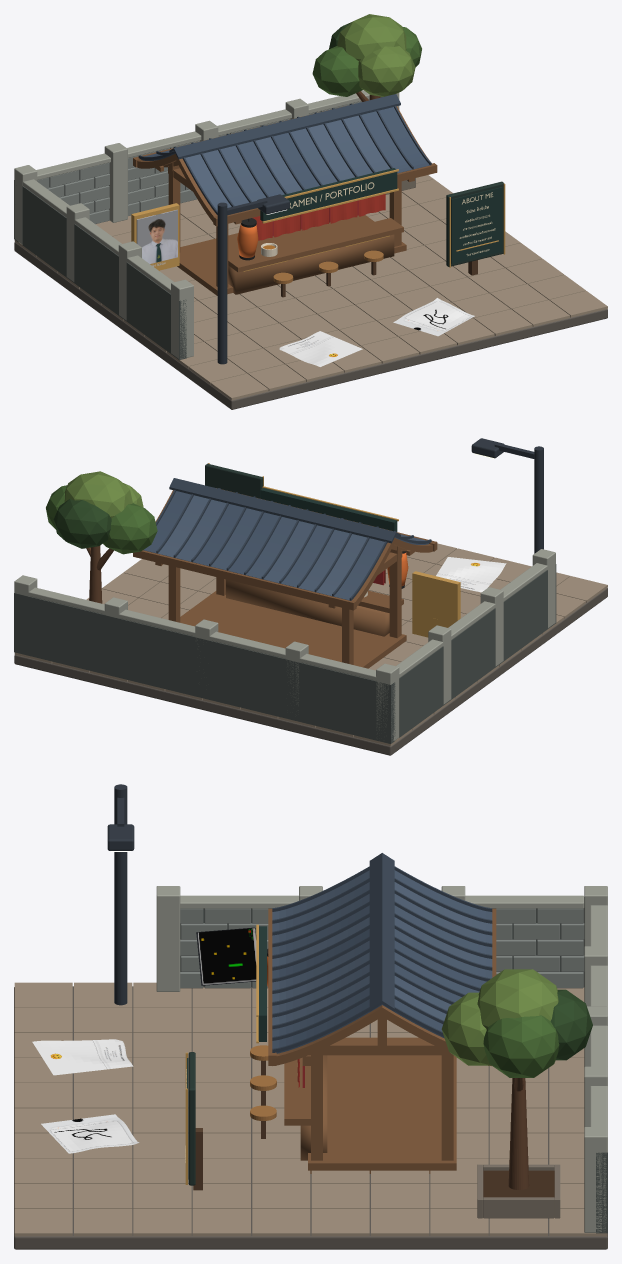
The model's file is rAMEs.glb.
The picture shows the model from 3 angles, top to bottom: view 1: azimuth 30°, elevation 25°; view 2: azimuth 150°, elevation 25°; view 3: azimuth 270°, elevation 25°; orthographic projection. The views are drawn at different scales.
Parts seen in each view (by area): view 1: Tile, Wall_left, Plane, PF_Profile_Inset, Wall_Left_Post, Cube.008, Wall_Post, Wall_Brick, Wall_cap, Cube, Roof_Ridge_Cap, Cube.007 (+28 smaller); view 2: Wall_Back, Tile, Wall_left, Cube, Plane, Wall_cap, Cube.008, Roof_Ridge_Cap, Wall_Post, PF_Portrait_Frame, Wall_Left_Post, Leaves_Back (+28 smaller); view 3: Tile, Cube, Plane, Wall_Brick_Left, Wall_Post, Roof_Ridge_Cap, Wall_Brick_Left_Offset, Leaves_Right, Leaves_Top, posterwall, Wall_Left_Post, Wall_left_Cap (+41 smaller).
Part boxes in pixels (left/top/right/bottom): Tile: left=14, top=175, right=607, bottom=400; Wall_left: left=22, top=186, right=186, bottom=359; Plane: left=14, top=242, right=607, bottom=409; PF_Profile_Inset: left=451, top=187, right=502, bottom=263; Wall_Left_Post: left=66, top=203, right=193, bottom=358; Cube.008: left=228, top=234, right=394, bottom=294; Wall_Post: left=14, top=93, right=399, bottom=244; Wall_Brick: left=37, top=99, right=369, bottom=223; Wall_cap: left=36, top=90, right=369, bottom=180; Cube: left=177, top=215, right=406, bottom=295; Roof_Ridge_Cap: left=169, top=94, right=400, bottom=159; Cube.007: left=228, top=218, right=403, bottom=272; Wall_Back: left=14, top=593, right=395, bottom=743; Tile: left=14, top=543, right=607, bottom=746; Wall_left: left=399, top=564, right=556, bottom=737; Cube: left=180, top=591, right=406, bottom=668; Plane: left=14, top=588, right=607, bottom=755; Wall_cap: left=28, top=587, right=396, bottom=683; Cube.008: left=226, top=579, right=389, bottom=636; Roof_Ridge_Cap: left=169, top=478, right=400, bottom=543; Wall_Post: left=14, top=575, right=399, bottom=740; PF_Portrait_Frame: left=412, top=571, right=460, bottom=637; Wall_Left_Post: left=428, top=549, right=555, bottom=704; Leaves_Back: left=53, top=498, right=111, bottom=548; Tile: left=14, top=982, right=607, bottom=1236; Cube: left=308, top=1037, right=456, bottom=1173; Plane: left=14, top=986, right=607, bottom=1249; Wall_Brick_Left: left=180, top=908, right=583, bottom=988; Wall_Post: left=584, top=886, right=607, bottom=1232; Roof_Ridge_Cap: left=369, top=853, right=394, bottom=1011; Wall_Brick_Left_Offset: left=181, top=923, right=584, bottom=971; Leaves_Right: left=483, top=1015, right=559, bottom=1077; Leaves_Top: left=477, top=969, right=558, bottom=1029; posterwall: left=196, top=927, right=256, bottom=985; Wall_Left_Post: left=156, top=886, right=465, bottom=991; Wall_left_Cap: left=180, top=895, right=584, bottom=908.
Bounding box in the file's own units: 10 × 4.52 × 10.
38 materials, 4 textured.
